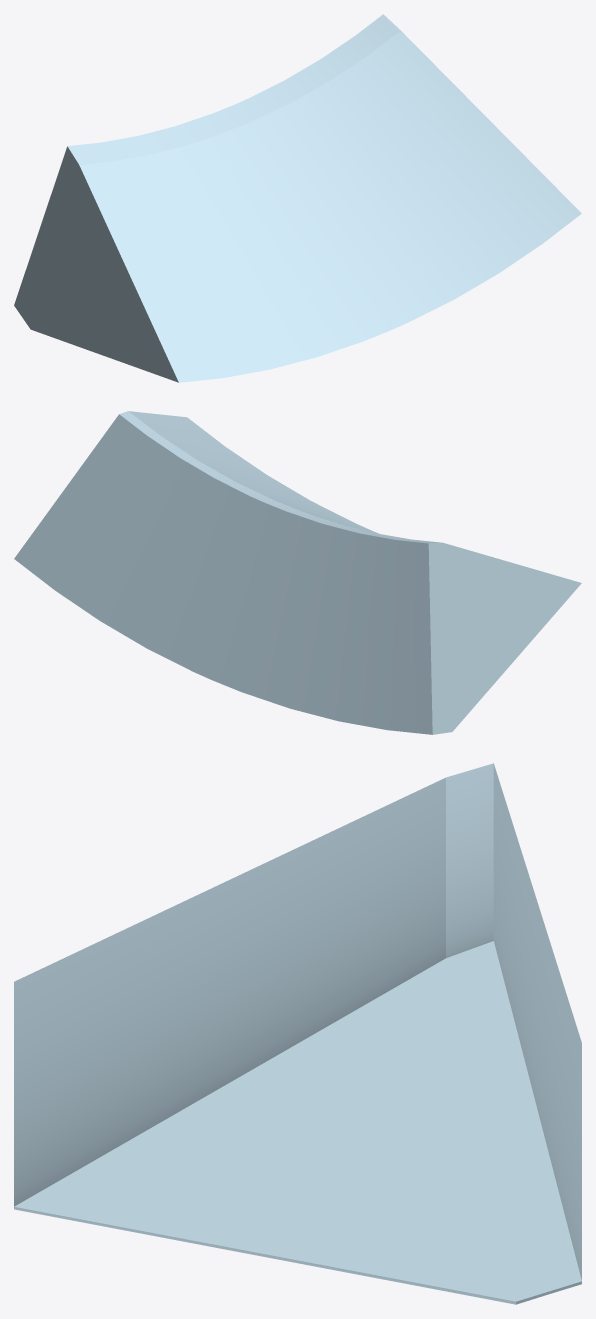
Rendered from Sub_5_Cell_3_1.gltf.
The picture shows the model from 3 angles, top to bottom: view 1: azimuth 30°, elevation 25°; view 2: azimuth 150°, elevation 25°; view 3: azimuth 270°, elevation 25°; orthographic projection. The views are drawn at different scales.
Visible parts, largest first — view 1: Sub_5_Cell_3_1; view 2: Sub_5_Cell_3_1; view 3: Sub_5_Cell_3_1.
Part boxes in pixels (left/top/right/bottom): Sub_5_Cell_3_1: left=14, top=14, right=581, bottom=382; Sub_5_Cell_3_1: left=14, top=411, right=581, bottom=734; Sub_5_Cell_3_1: left=14, top=763, right=581, bottom=1304.
Bounding box in the file's own units: 0.093 × 0.0501 × 0.0589.
